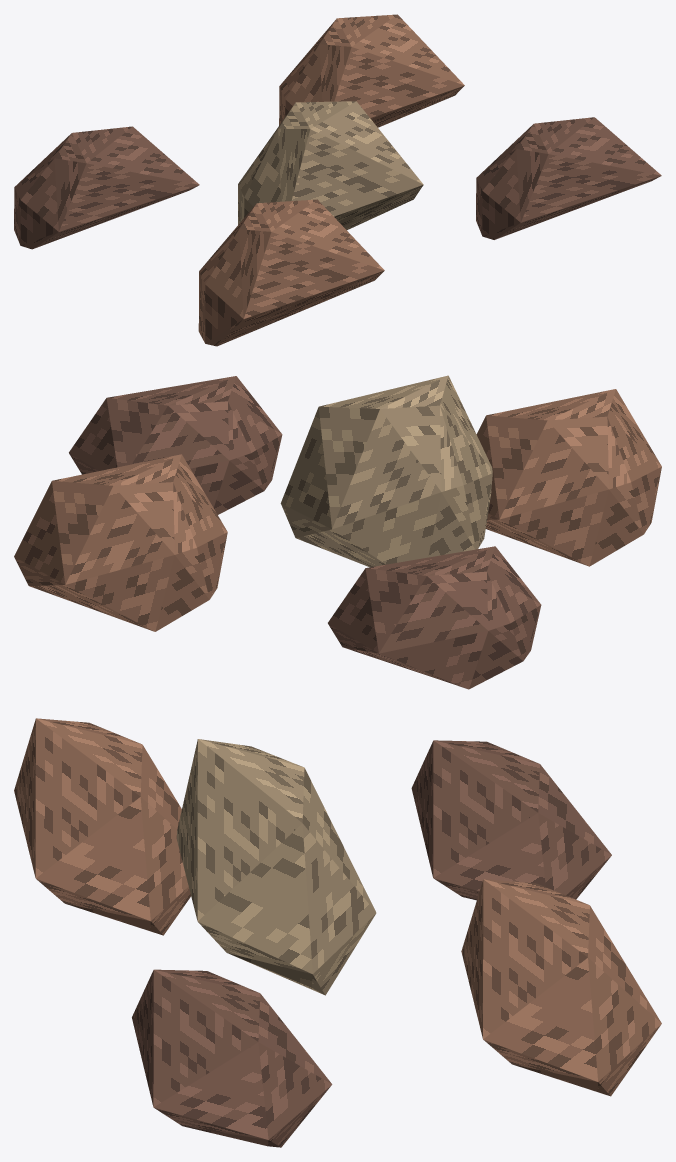
The model's file is ruined_chunks.glb.
3 renders of one model, top to bottom at view 1: azimuth 30°, elevation 25°; view 2: azimuth 150°, elevation 25°; view 3: azimuth 270°, elevation 25°, orthographic. The views are drawn at different scales.
Parts seen in each view (by area): view 1: block_individual irregular fragment (×5); view 2: block_individual irregular fragment (×5); view 3: block_individual irregular fragment (×5).
Part boxes in pixels (x1,y1,x2,y2): block_individual irregular fragment (×5): (14, 14, 661, 346); block_individual irregular fragment (×5): (14, 375, 661, 689); block_individual irregular fragment (×5): (14, 718, 661, 1147).
Bounding box in the file's own units: 0.1279 × 0.0383 × 0.1043.
Materials: 1 (1 with a texture image).
